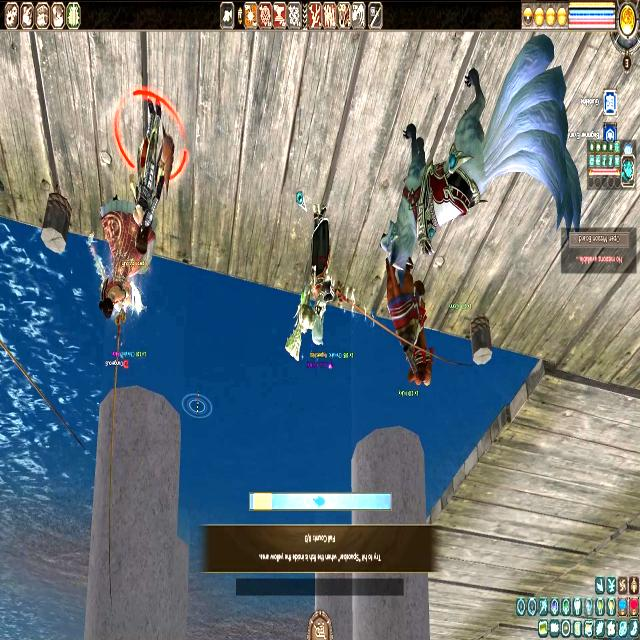fishes: (312, 495, 326, 508)
